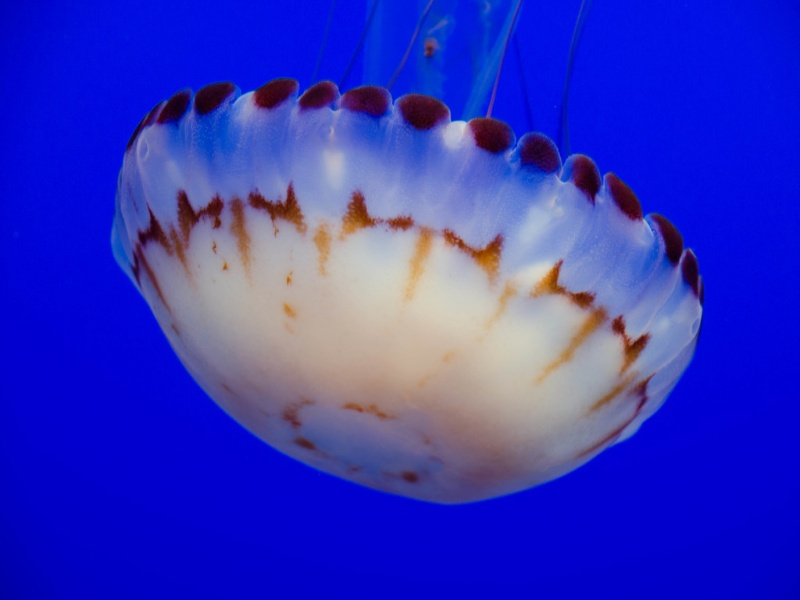Jellyfish: (111, 0, 704, 503)
